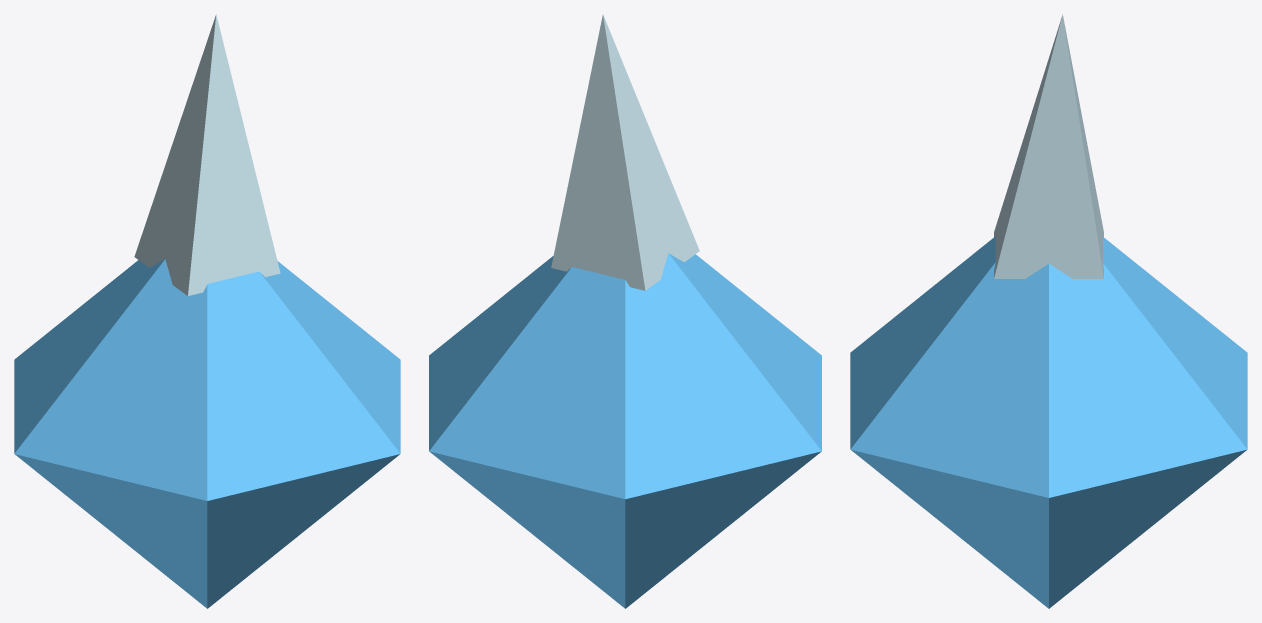
Rendered from grave_soul.glb.
The picture shows the model from 3 angles, left to right: view 1: azimuth 30°, elevation 25°; view 2: azimuth 150°, elevation 25°; view 3: azimuth 270°, elevation 25°; orthographic projection. The views are drawn at different scales.
Parts seen in each view (by area): view 1: grave_soul; view 2: grave_soul; view 3: grave_soul.
Boxes of the visible parts, left/top/right/bottom form: grave_soul: left=14, top=14, right=400, bottom=608; grave_soul: left=429, top=14, right=821, bottom=608; grave_soul: left=850, top=14, right=1247, bottom=608.
Size of the model in its own units: 1 by 1.45 by 0.866.
1 material, 1 textured.
